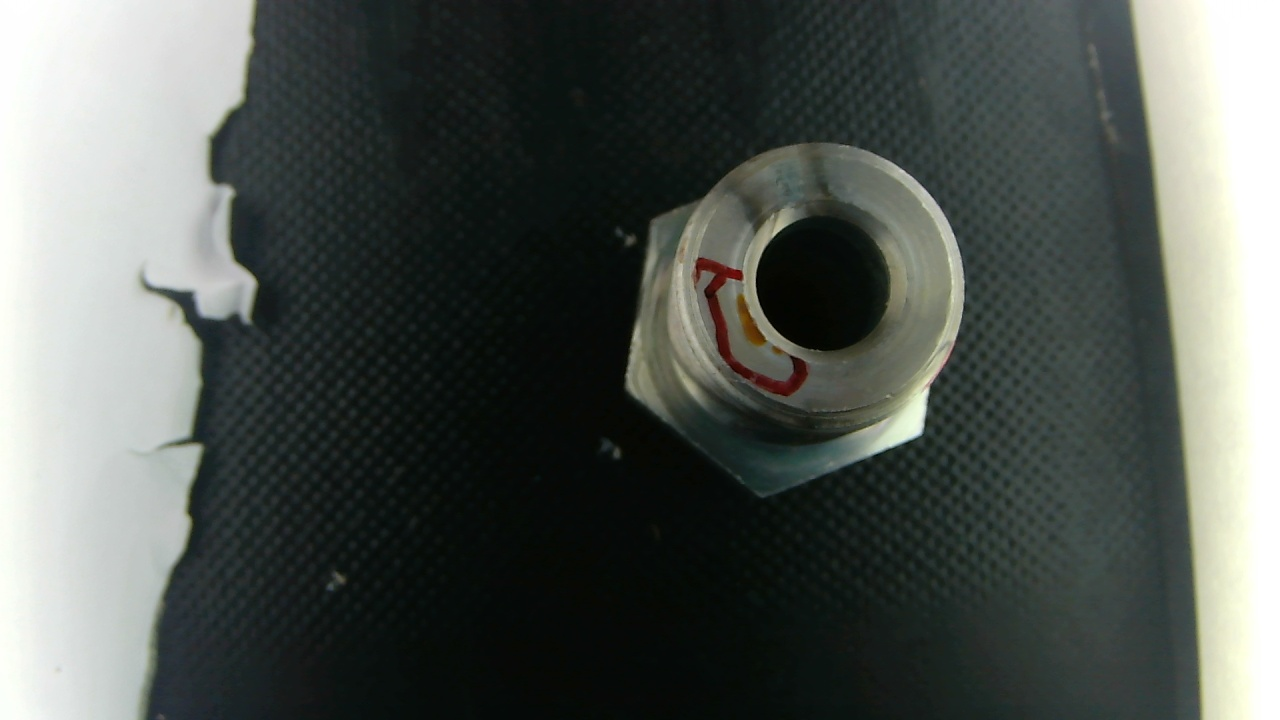blackpatch: (784, 117, 851, 220)
